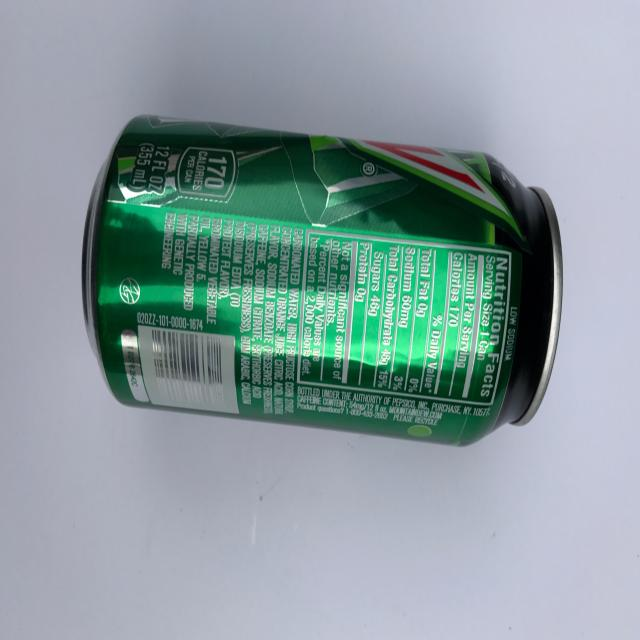metal: (81, 112, 563, 447)
